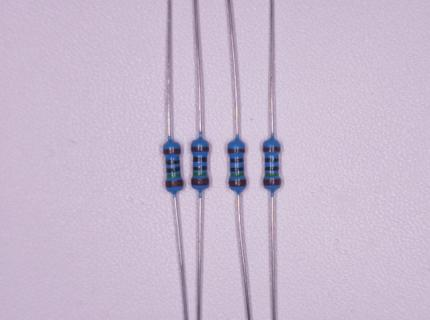Black band: (166, 159, 180, 165), (167, 167, 180, 173), (230, 158, 244, 163), (265, 166, 279, 171), (194, 157, 207, 162), (194, 166, 207, 171), (231, 167, 244, 172), (265, 158, 278, 163)
Brown band: (192, 178, 209, 186), (166, 180, 183, 187), (264, 179, 281, 186), (164, 148, 180, 155), (229, 180, 246, 186), (192, 147, 209, 152), (228, 148, 245, 153), (263, 147, 280, 152)
Green band: (166, 173, 181, 179), (265, 172, 279, 176), (231, 173, 244, 177), (194, 172, 206, 176)
